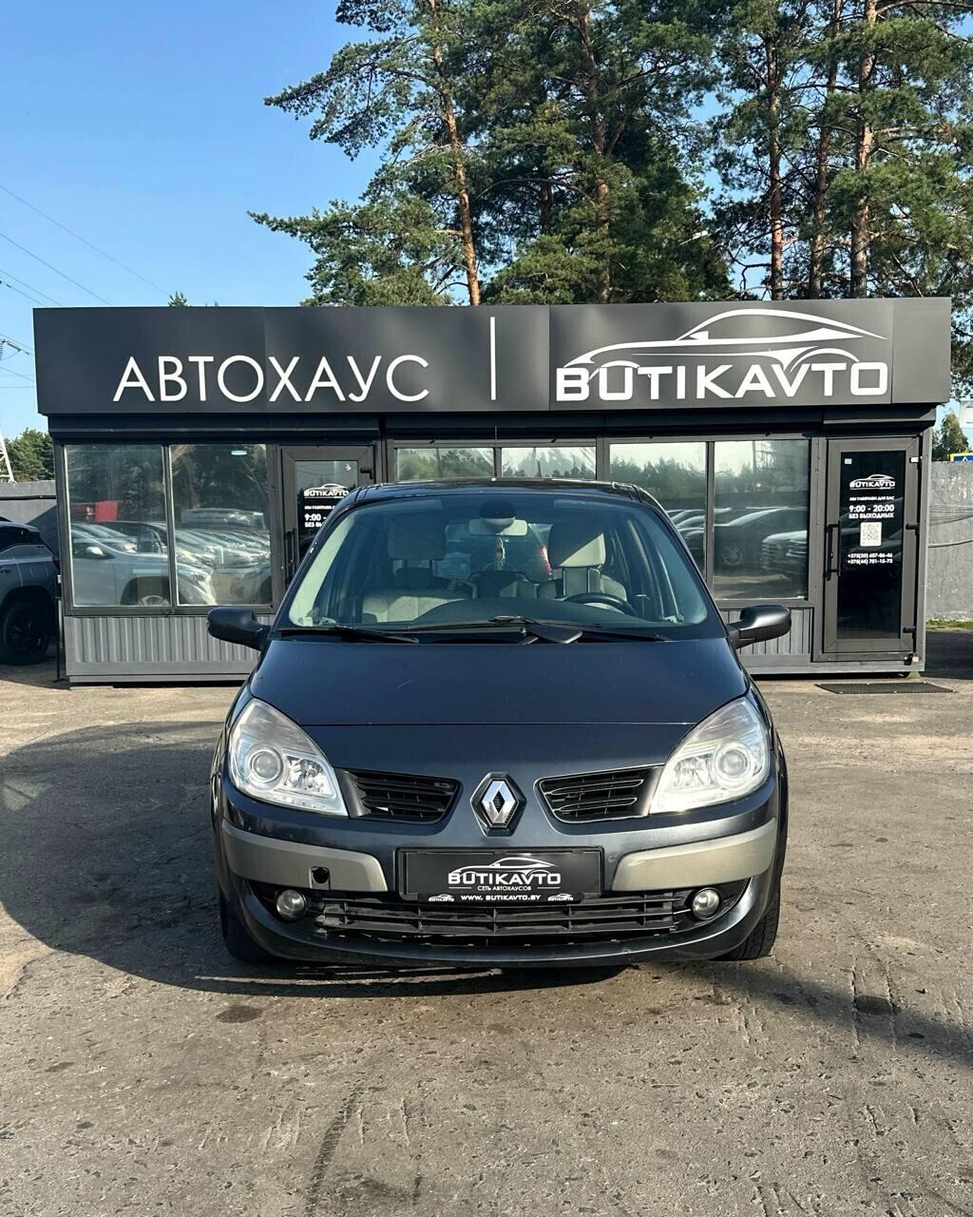Megane_2005-2009: (200, 469, 798, 990)
